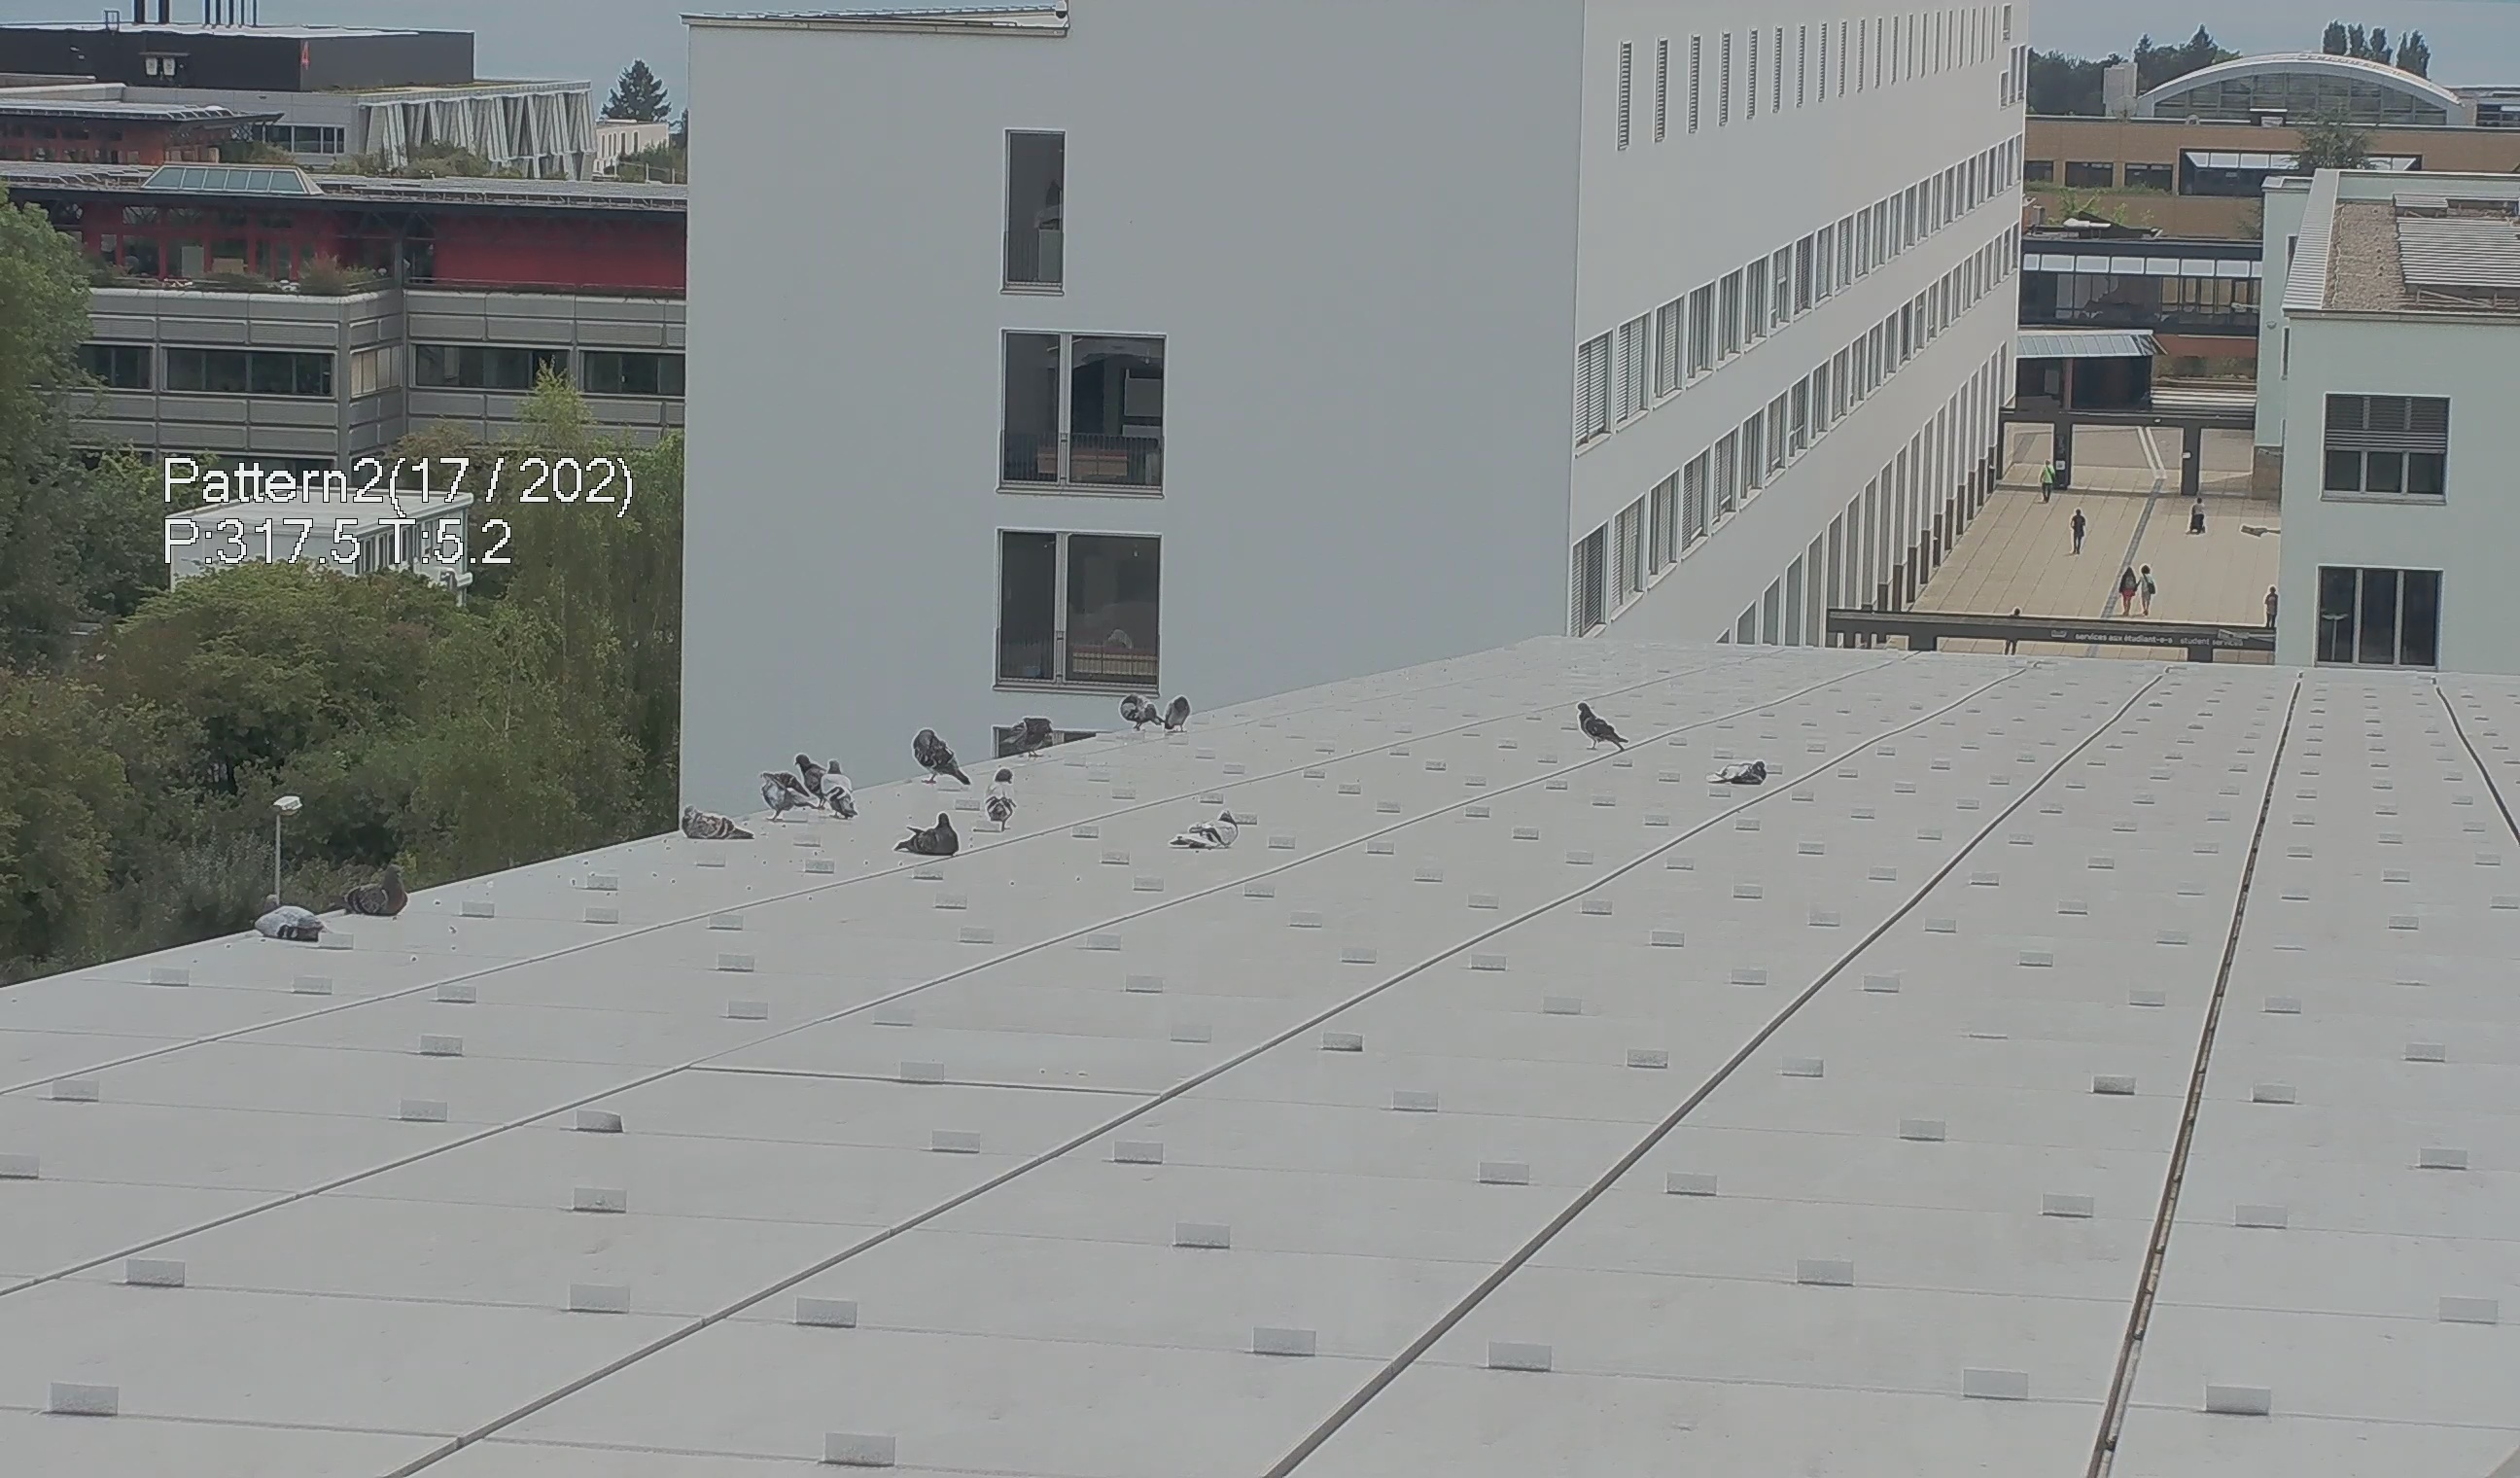Pigeon: (248, 889, 348, 955), (1155, 806, 1243, 864), (338, 862, 419, 920), (893, 802, 962, 869), (906, 727, 971, 790), (1572, 702, 1639, 760), (679, 804, 760, 850), (756, 762, 819, 820), (981, 765, 1029, 834), (823, 755, 860, 823), (1002, 713, 1055, 760), (1706, 753, 1774, 788), (1111, 690, 1162, 728), (793, 746, 825, 801), (1161, 691, 1194, 737)
